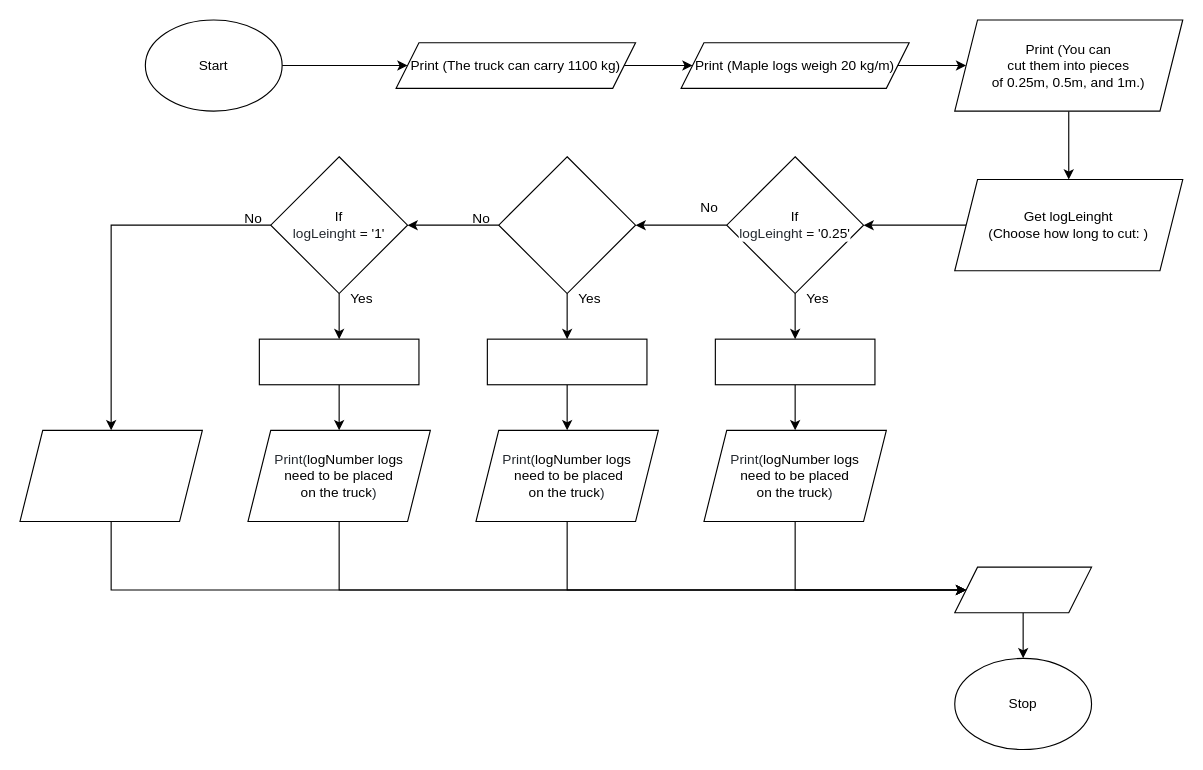
Image size: 1203x770. Some labels were removed from this diagram. Each missing label, with the centre of its shape:
If logLeinght = '0.5': (567,225)
logNumber = 1100 / 10: (566,361)
logNumber = 1100 / 20: (338,361)
logNumber = 1100 / 5: (794,361)
Print (Done): (1023,589)
Print( Please choose 1 of 3 option ): (110,475)
